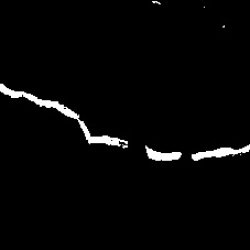crack: (2, 84, 131, 148), (193, 145, 247, 161), (145, 146, 185, 161)
